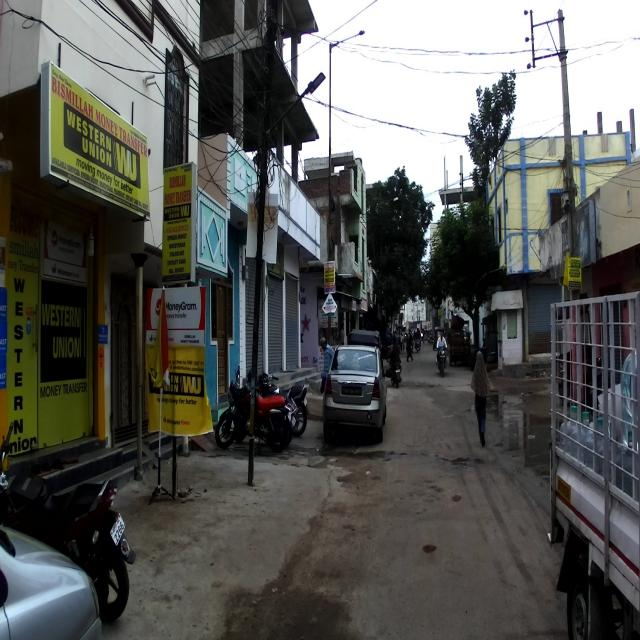Car_Mahindra: (323, 344, 392, 444)
motorcycle_Honda: (261, 371, 310, 434)
motorcycle_bajaj: (0, 419, 135, 622), (214, 362, 288, 457)
scooter: (245, 368, 298, 443)
